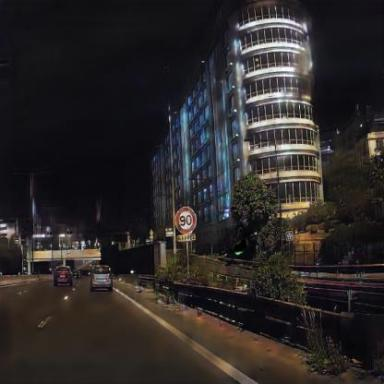Speed_limit_90: (176, 209, 197, 234)
